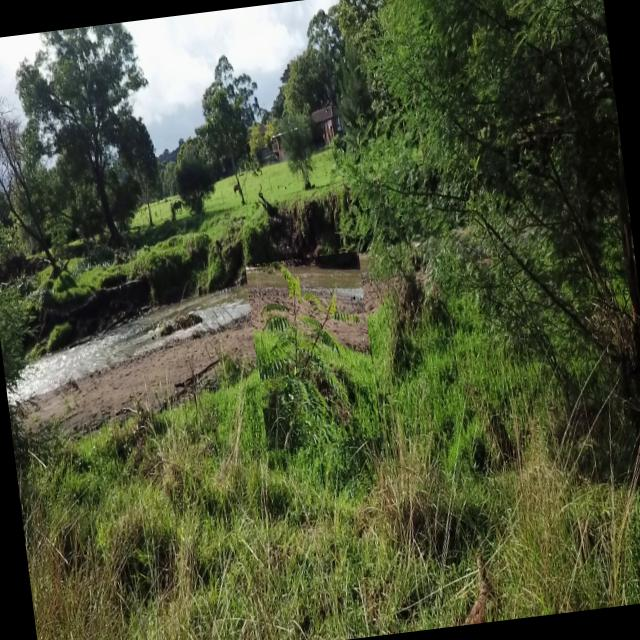Mysore-Thorn-Weed: (244, 251, 380, 450)
